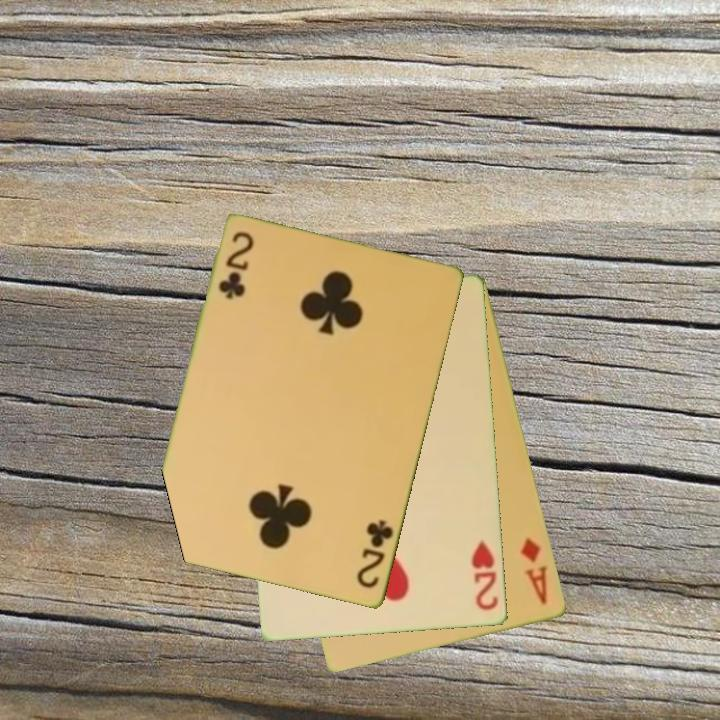2c: (353, 516, 397, 592), (215, 228, 257, 303)
2h: (468, 537, 502, 614)
Ad: (518, 534, 551, 608)
